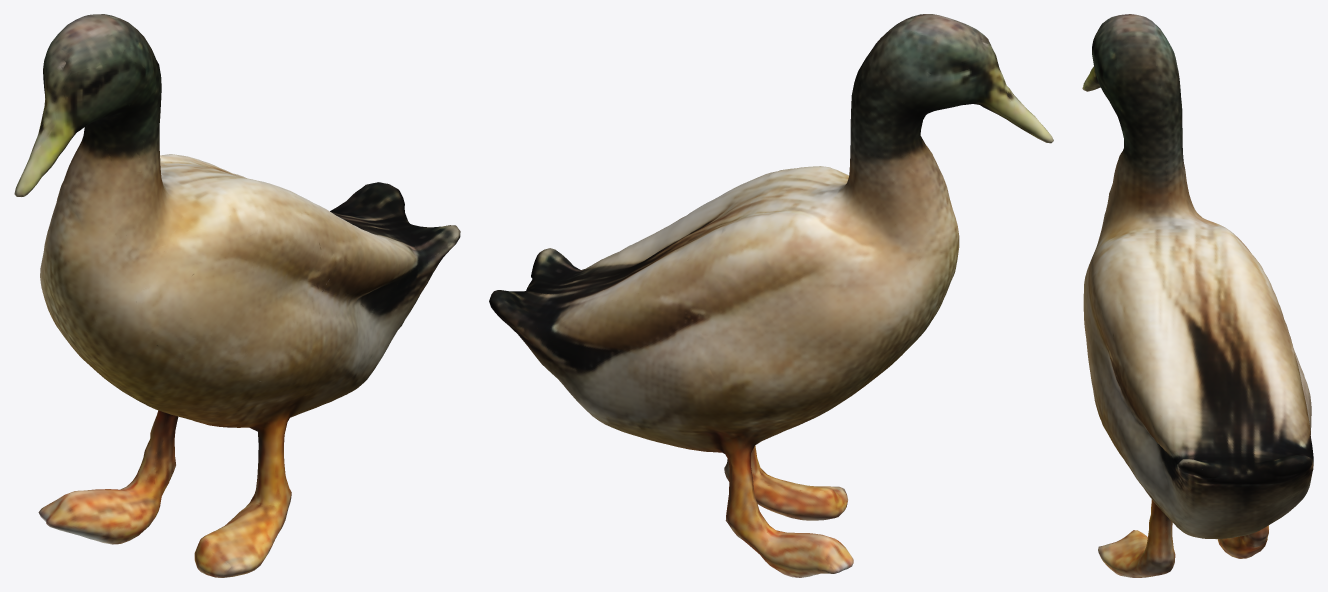
Rendered from joven.glb.
3 views of the same model, side by side, from view 1: azimuth 30°, elevation 25°; view 2: azimuth 150°, elevation 25°; view 3: azimuth 270°, elevation 25° (orthographic). The views are drawn at different scales.
Visible parts, largest first — view 1: mesh; view 2: mesh; view 3: mesh.
Boxes of the visible parts, <box> form: mesh: <box>14,14,460,577</box>; mesh: <box>489,14,1053,577</box>; mesh: <box>1082,14,1313,577</box>.
Bounding box in the file's own units: 1.5 × 1.67 × 0.703.
Materials: 1 (1 with a texture image).
